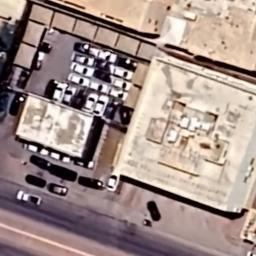pickup: (15, 188, 42, 208), (73, 39, 100, 57), (25, 58, 44, 70)
sedan: (49, 163, 78, 183), (77, 172, 105, 190), (20, 140, 50, 156), (45, 181, 70, 199), (28, 154, 51, 173), (48, 148, 72, 166), (68, 62, 94, 78), (115, 54, 138, 72), (24, 172, 48, 189), (52, 80, 68, 105), (8, 92, 24, 117), (102, 98, 120, 120), (144, 200, 162, 222), (108, 76, 132, 92), (61, 85, 77, 108), (73, 155, 96, 171), (44, 76, 58, 102), (16, 64, 30, 90), (67, 73, 91, 88), (105, 170, 120, 194), (89, 80, 111, 96), (94, 95, 110, 117), (34, 38, 54, 55), (71, 52, 95, 66), (84, 90, 98, 114), (108, 87, 130, 102), (94, 59, 116, 73), (92, 69, 112, 84), (112, 66, 133, 80), (98, 48, 116, 64), (74, 88, 86, 112), (119, 104, 130, 126), (30, 49, 46, 62)
